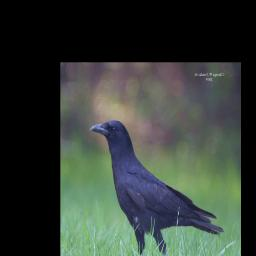Crow: (90, 118, 225, 256)
